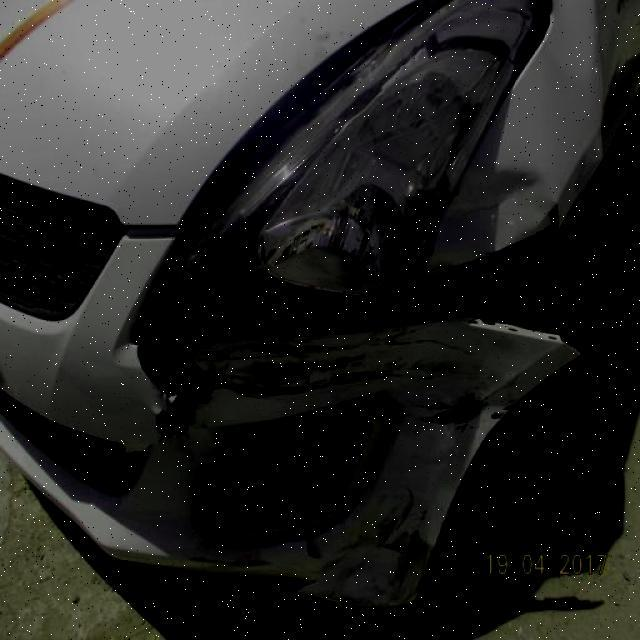car damage: (124, 317, 584, 607), (204, 195, 438, 338), (419, 163, 561, 277)
